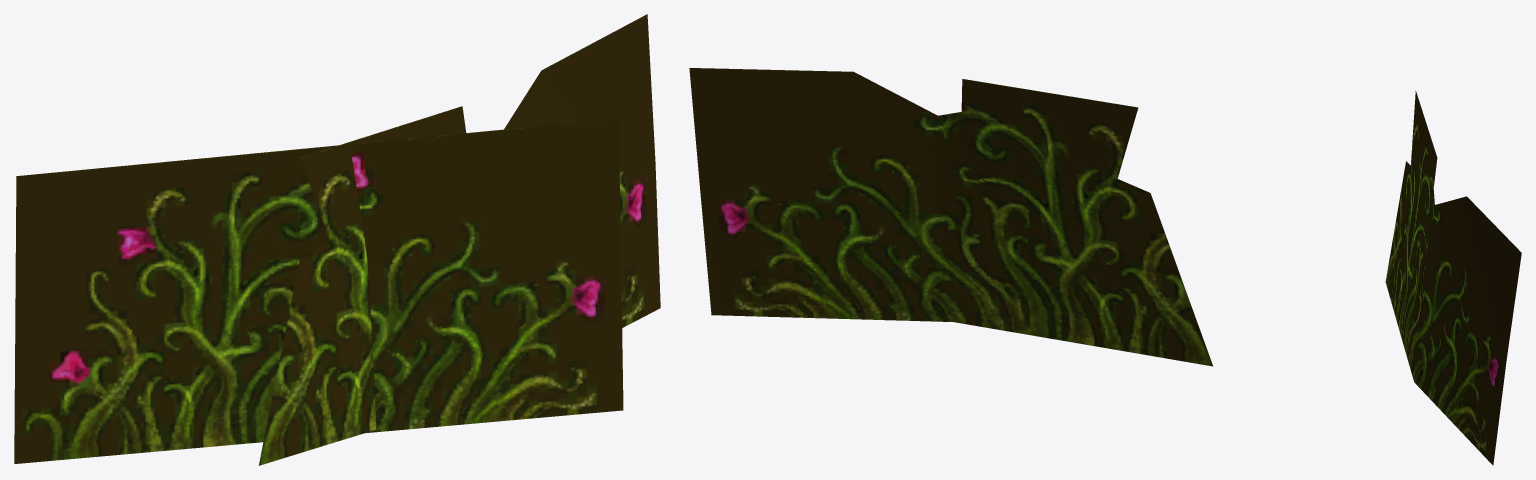
File: 1_ZhiWu_Cao01.FBX
3 renders of one model, left to right at view 1: azimuth 30°, elevation 25°; view 2: azimuth 150°, elevation 25°; view 3: azimuth 270°, elevation 25°, orthographic. The views are drawn at different scales.
Parts seen in each view (by area): view 1: DrawCall_0213; view 2: DrawCall_0213; view 3: DrawCall_0213.
Boxes of the visible parts, <box> form: DrawCall_0213: <box>14,14,660,465</box>; DrawCall_0213: <box>689,68,1213,366</box>; DrawCall_0213: <box>1385,90,1521,465</box>.
Size of the model in its own units: 0.1057 by 0.0457 by 0.0352.
